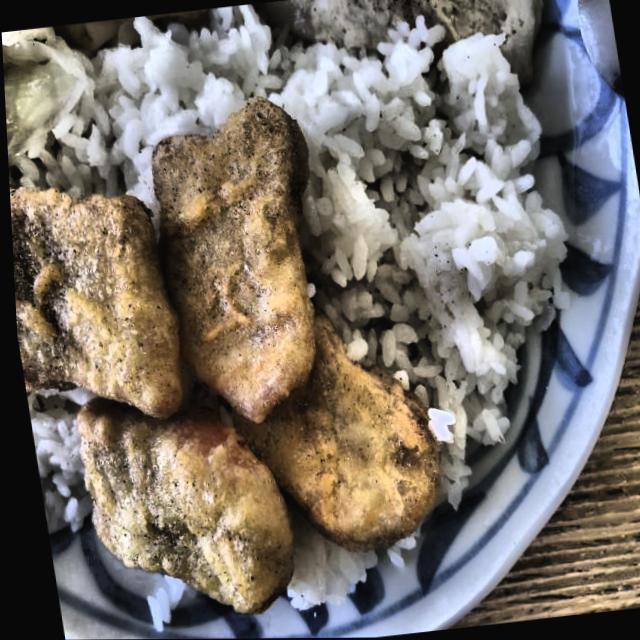Food: (4, 91, 447, 631), (244, 13, 581, 441)
